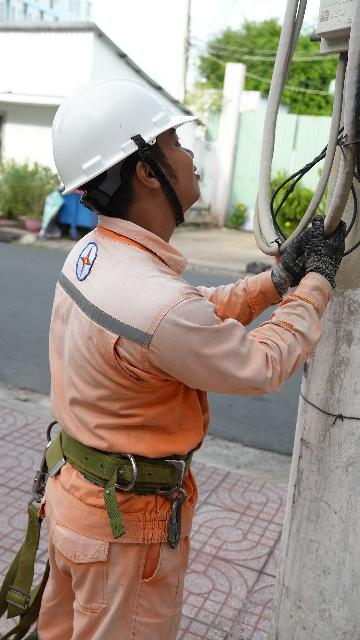gloves: (258, 209, 321, 287), (291, 210, 354, 284)
harness: (44, 405, 199, 513)
helmet: (36, 69, 194, 185)
